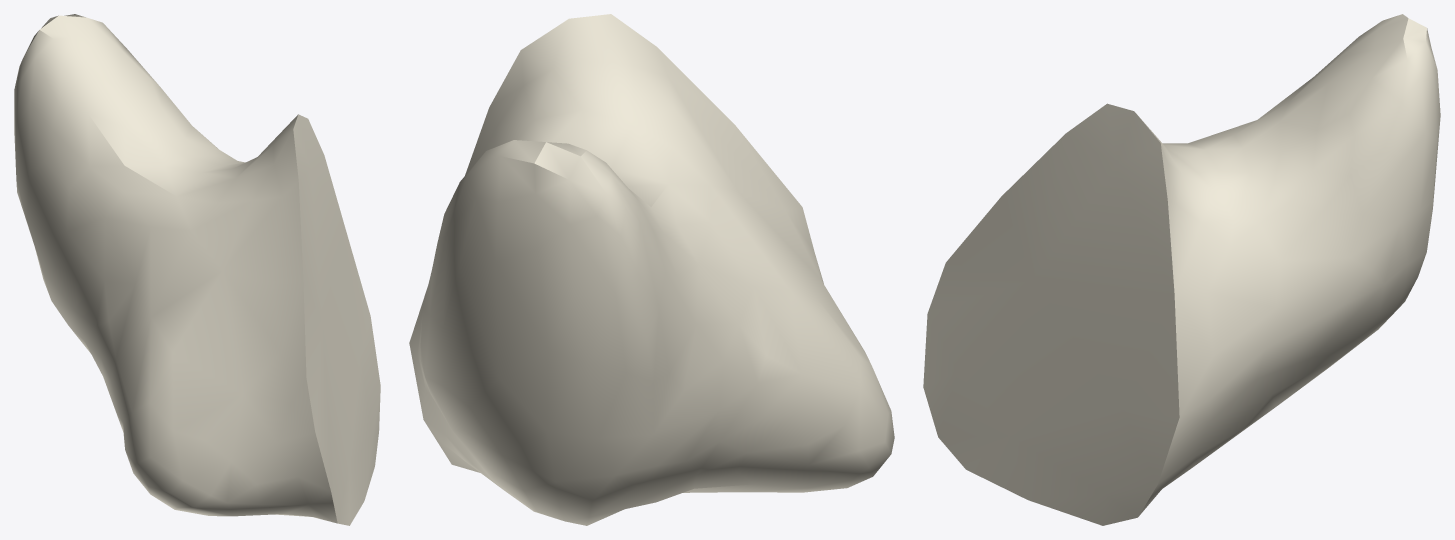
The model's file is fma12116_mm2389m.glb.
3 renders of one model, left to right at view 1: azimuth 30°, elevation 25°; view 2: azimuth 150°, elevation 25°; view 3: azimuth 270°, elevation 25°, orthographic. The views are drawn at different scales.
Parts seen in each view (by area): view 1: FMA12116_MM2389M; view 2: FMA12116_MM2389M; view 3: FMA12116_MM2389M.
Boxes of the visible parts, x1,y1,x2,y2 form: FMA12116_MM2389M: (14, 14, 380, 525); FMA12116_MM2389M: (409, 14, 894, 525); FMA12116_MM2389M: (923, 14, 1440, 525).
Bounding box in the file's own units: 0.00973 × 0.0125 × 0.0141.
